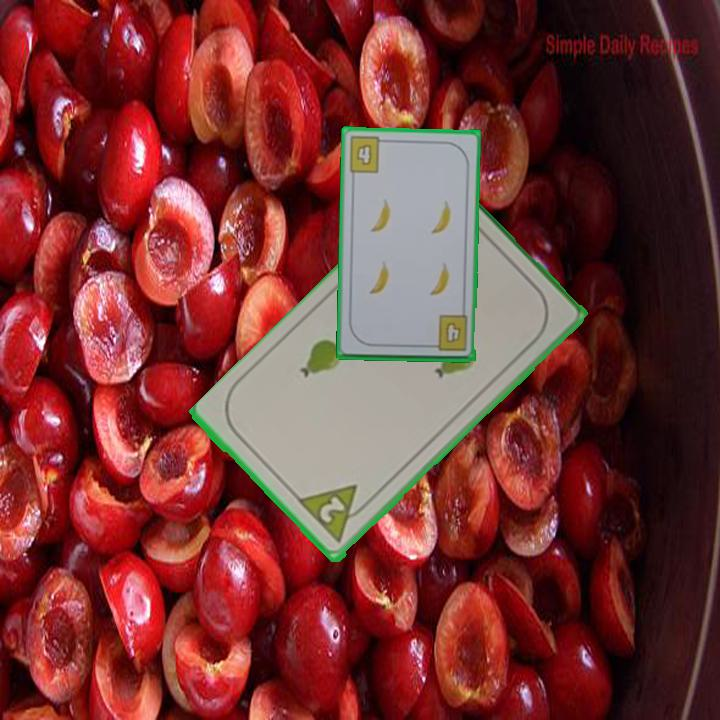2p: (296, 481, 374, 547)
4b: (345, 133, 390, 176), (426, 312, 470, 354)
